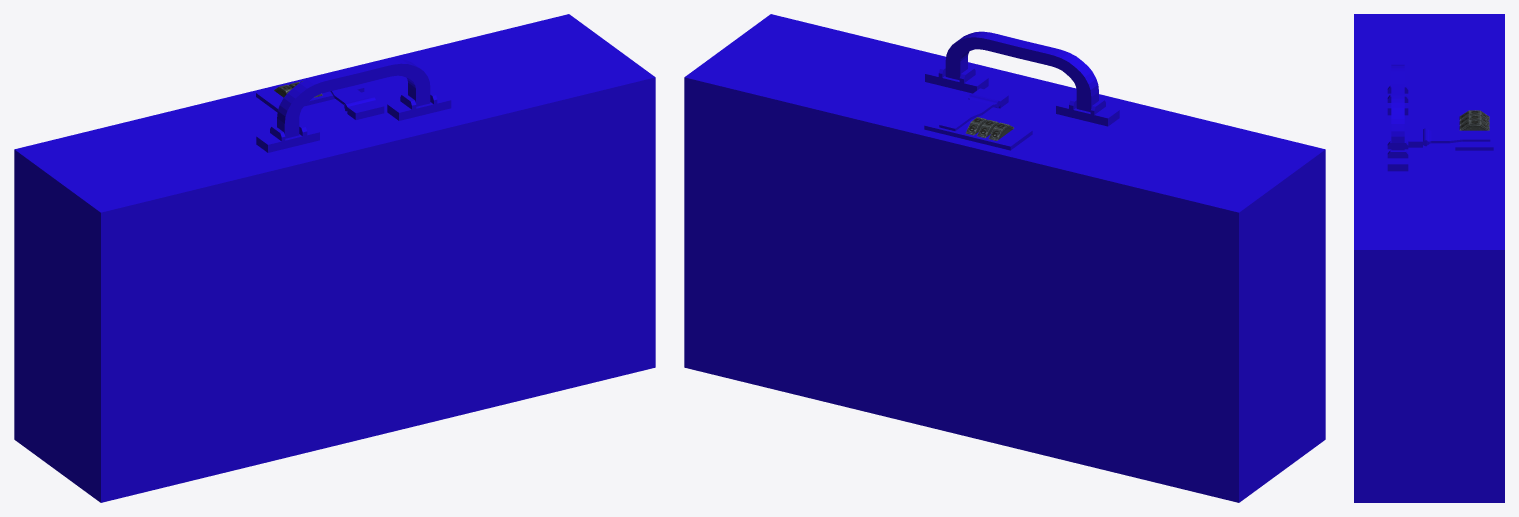
The model's file is briefcase.fbx.
3 views of the same model, side by side, from view 1: azimuth 30°, elevation 25°; view 2: azimuth 150°, elevation 25°; view 3: azimuth 270°, elevation 25° (orthographic). The views are drawn at different scales.
Parts seen in each view (by area): view 1: briefcase_upper, briefcase_lower; view 2: briefcase_lower, briefcase_upper; view 3: briefcase_upper, briefcase_lower, wheel1_low.
Part boxes in pixels (box(x1,y1,x2,y2)): briefcase_upper: box(57, 45, 655, 502); briefcase_lower: box(14, 14, 611, 470); briefcase_lower: box(684, 46, 1282, 502); briefcase_upper: box(728, 14, 1325, 470); briefcase_upper: box(1354, 14, 1490, 502); briefcase_lower: box(1429, 14, 1504, 502); wheel1_low: box(1459, 120, 1489, 130).
Size of the model in its own units: 200 by 119 by 54.04.
